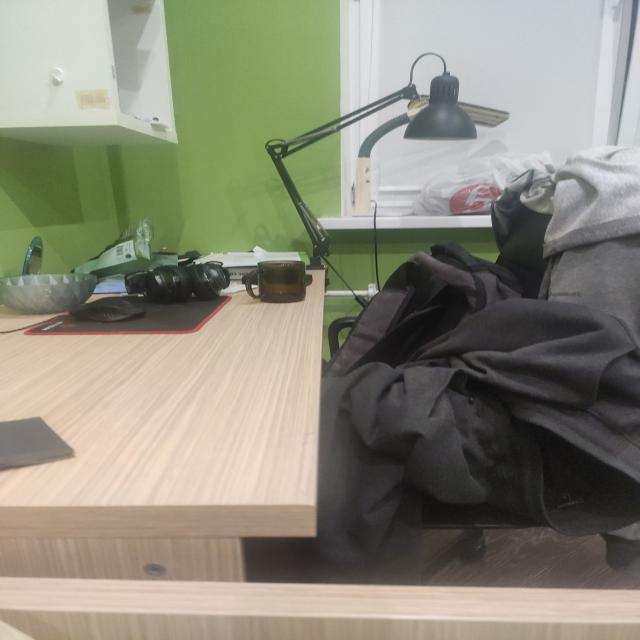cups: (241, 260, 312, 303)
